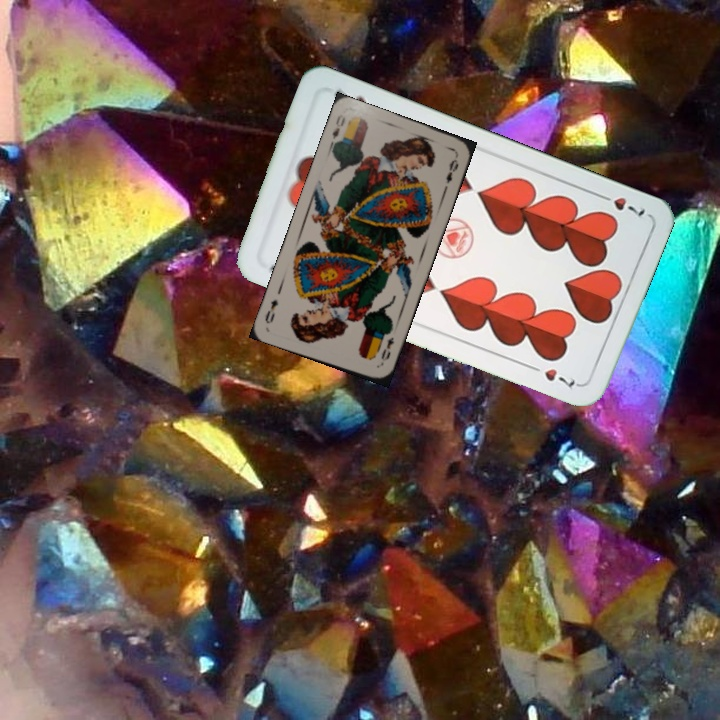EO: (326, 110, 348, 150), (376, 333, 397, 368)
H7: (593, 189, 648, 219)
